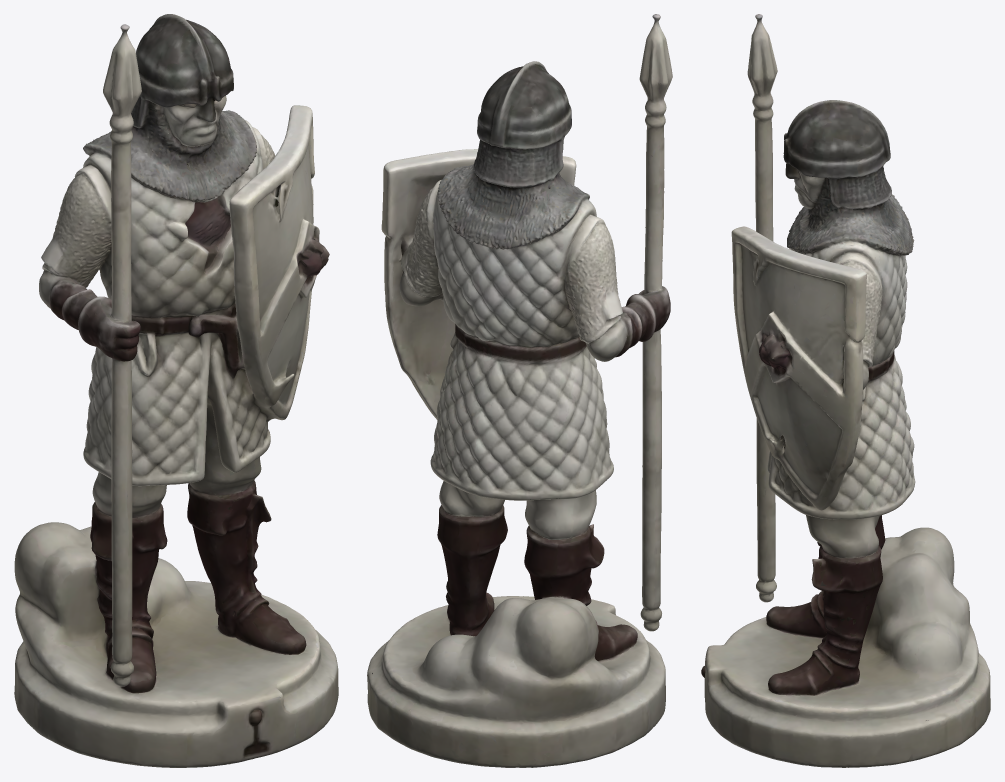
File: pawn_high.glb
3 views of the same model, side by side, from view 1: azimuth 30°, elevation 25°; view 2: azimuth 150°, elevation 25°; view 3: azimuth 270°, elevation 25° (orthographic). The views are drawn at different scales.
Visible parts, largest first — view 1: geometry_0; view 2: geometry_0; view 3: geometry_0.
Part boxes in pixels (box(x1,y1,x2,y2)): geometry_0: box(14, 14, 338, 767); geometry_0: box(367, 14, 672, 767); geometry_0: box(701, 14, 990, 767).
Size of the model in its own units: 0.3992 by 1 by 0.4034.
Materials: 1 (1 with a texture image).
